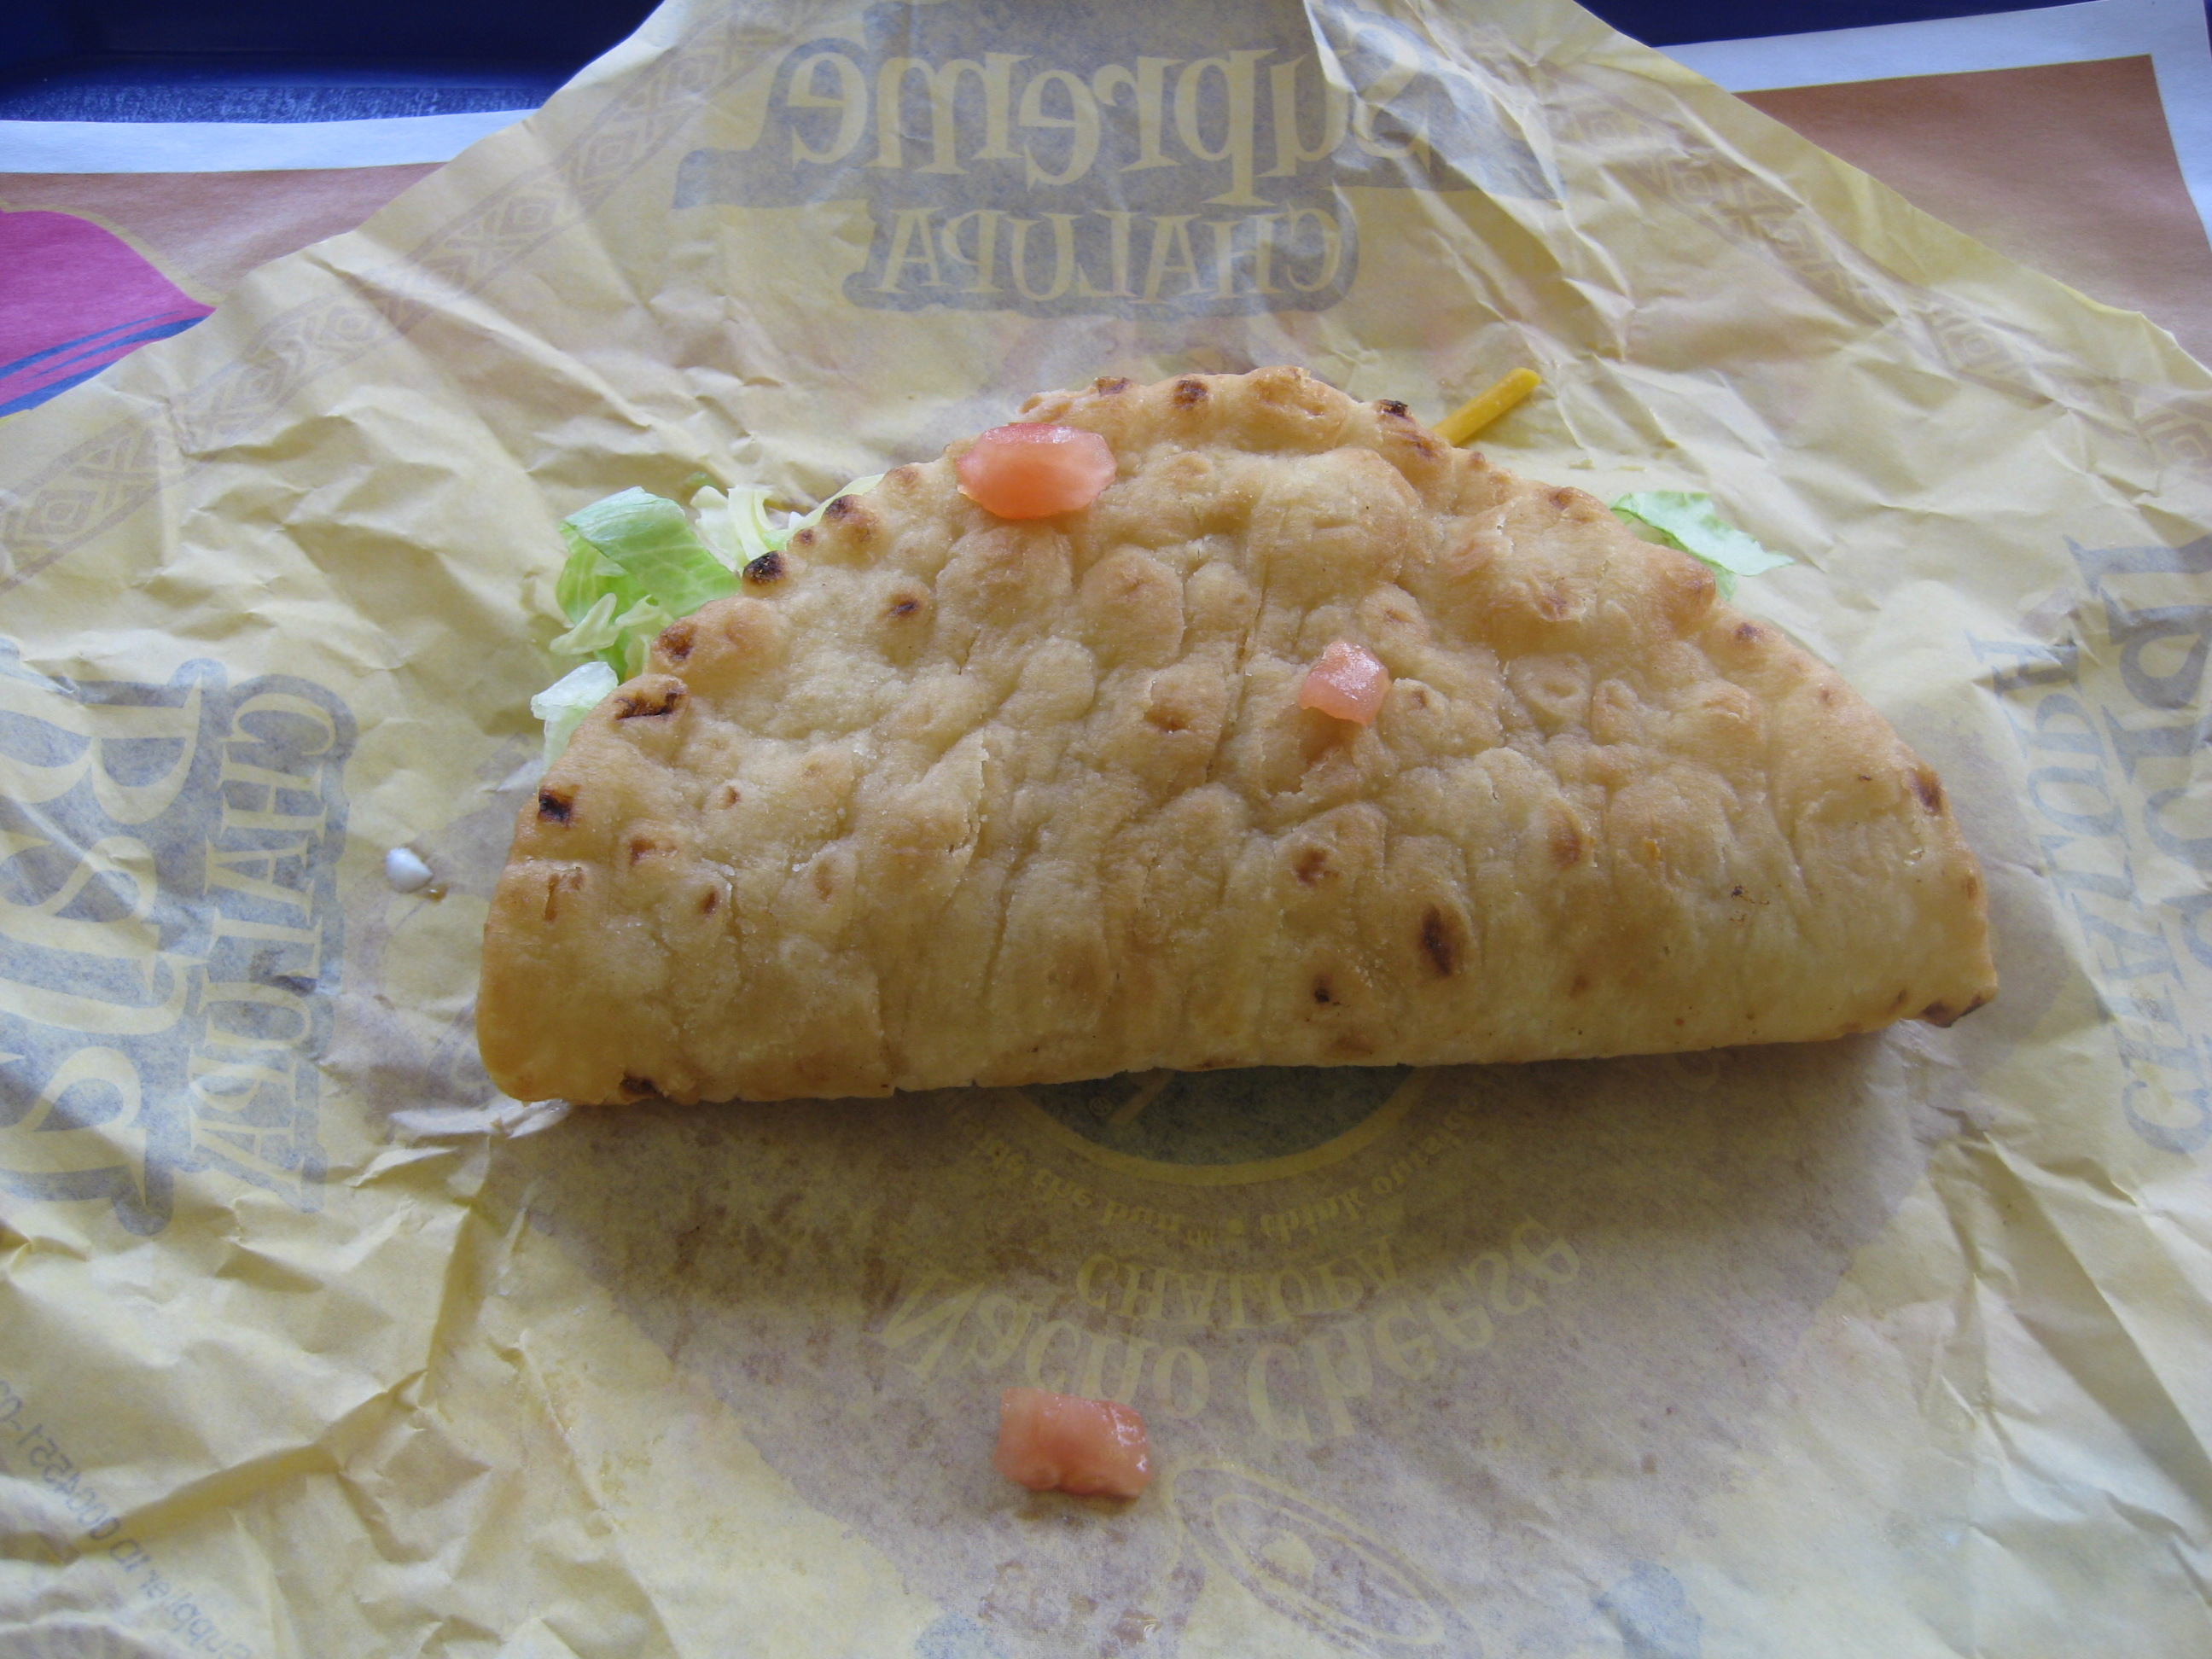taco: (439, 266, 2022, 1254)
